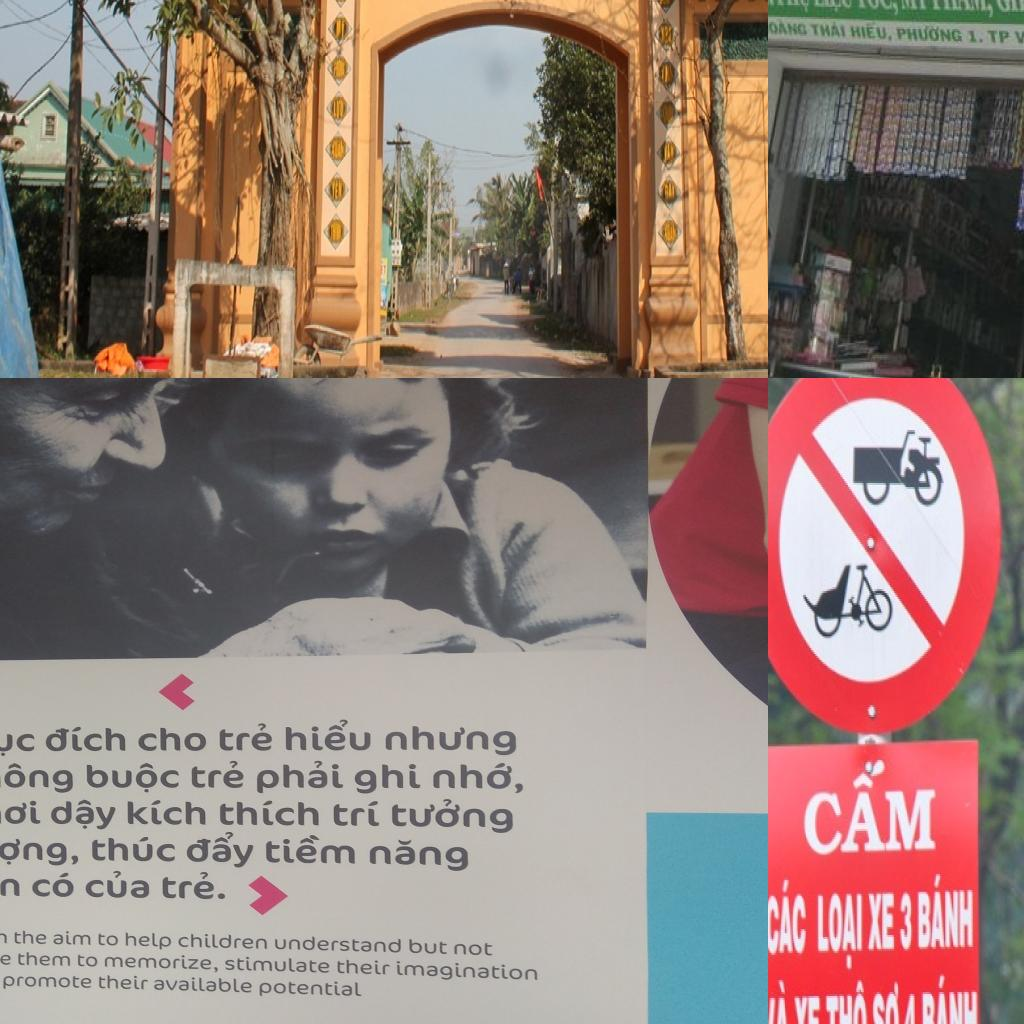text: (798, 754, 944, 862), (379, 720, 524, 764), (916, 870, 977, 961), (388, 796, 518, 834), (812, 890, 866, 974), (391, 958, 541, 986), (276, 715, 374, 755), (362, 839, 474, 872), (768, 874, 808, 964), (252, 758, 346, 796), (214, 798, 324, 830), (425, 762, 528, 796), (262, 829, 358, 865), (80, 761, 182, 793), (920, 970, 980, 1024), (180, 832, 261, 870), (85, 833, 180, 864), (41, 723, 129, 756), (153, 868, 233, 904), (122, 797, 209, 830), (0, 834, 82, 869), (46, 794, 117, 832), (100, 952, 221, 974), (352, 760, 424, 796), (256, 978, 363, 1002), (81, 868, 152, 904), (222, 954, 333, 977), (272, 936, 405, 955), (0, 762, 76, 795), (187, 756, 249, 794), (865, 886, 897, 959), (151, 976, 255, 998), (135, 726, 209, 756), (212, 721, 277, 755), (822, 980, 870, 1024), (175, 931, 270, 953), (328, 797, 388, 830), (894, 22, 966, 46), (0, 974, 94, 992), (26, 869, 80, 900), (928, 0, 999, 22), (0, 796, 44, 829), (870, 980, 901, 1024), (897, 888, 915, 959), (335, 956, 392, 978), (0, 727, 38, 759), (768, 978, 794, 1024), (848, 19, 895, 44), (404, 936, 452, 960), (122, 929, 174, 950), (849, 0, 903, 20), (790, 992, 823, 1024), (14, 950, 72, 968), (93, 974, 151, 992), (768, 17, 811, 39), (807, 19, 849, 41), (450, 940, 496, 960), (0, 866, 24, 901), (51, 928, 93, 948), (807, 0, 857, 15), (11, 928, 50, 946), (771, 0, 814, 15), (903, 984, 919, 1024), (94, 930, 120, 950), (991, 0, 1024, 15), (985, 29, 1014, 46), (73, 951, 100, 969), (966, 27, 988, 48), (896, 0, 930, 13), (1011, 25, 1024, 49), (333, 98, 345, 120), (331, 180, 343, 201), (0, 949, 12, 969)
